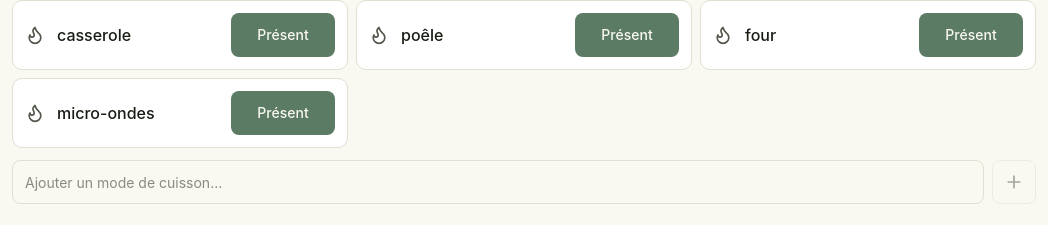
Test: CookingModesSection › ajoute un mode de cuisson personnalisé via le champ de texte libre
The image size is (1048, 225).
expect the text "casserole" is shown: met, box [57,23,131,47]
In the field labelled "Ajouter un mode de cuisson": {"x": 498, "y": 182} [12,160,984,204], type "plancha"
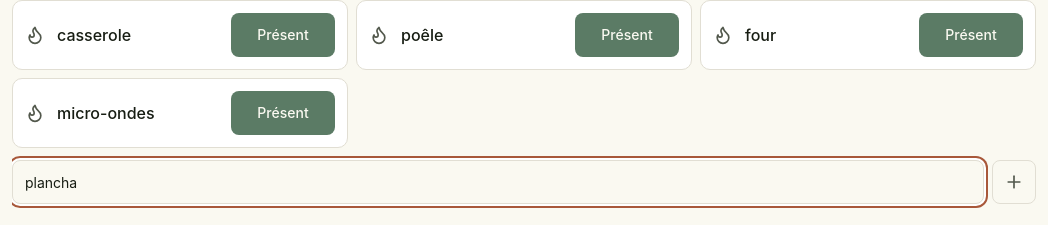
Click the button named "Ajouter": {"x": 1014, "y": 182} [992,160,1036,204]
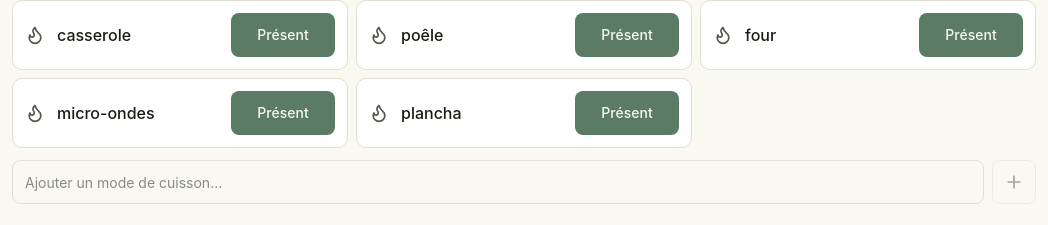
expect the text "plancha" is shown: met, box [401,101,462,125]
